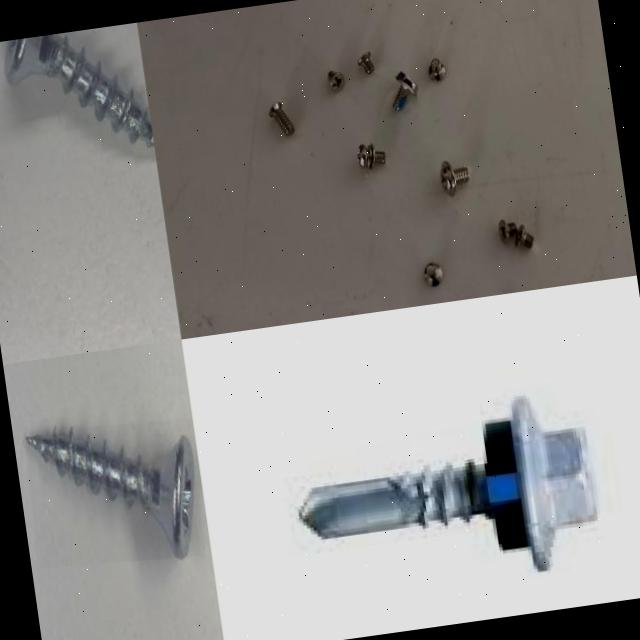Screw: (300, 398, 600, 572), (26, 428, 195, 558), (4, 34, 154, 146), (434, 153, 476, 201), (384, 65, 424, 114), (264, 98, 298, 141), (352, 136, 388, 176), (421, 256, 446, 288), (424, 54, 450, 84), (511, 222, 537, 252), (353, 49, 378, 80), (496, 214, 520, 244), (324, 65, 346, 94)
